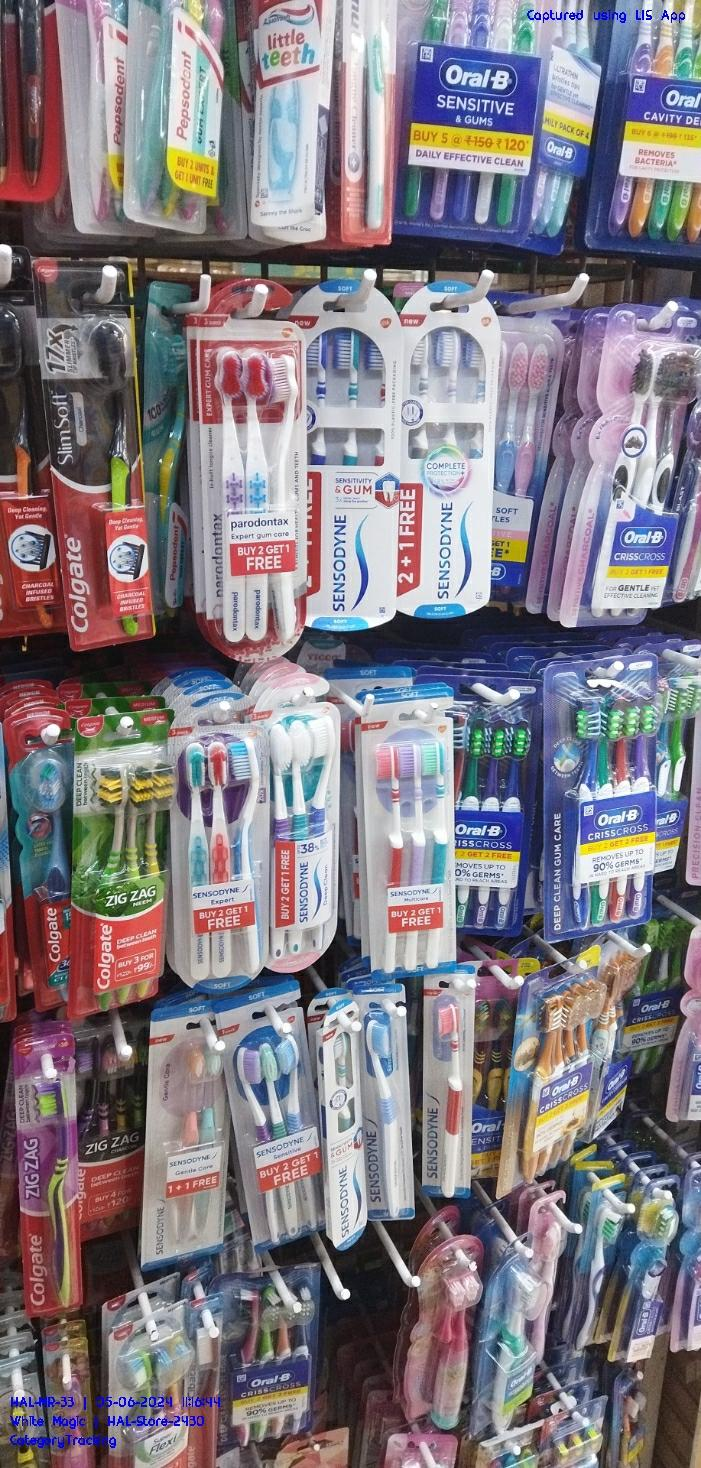15: (234, 990, 317, 1249)
16: (305, 282, 398, 627)
4: (397, 278, 496, 621)
5: (264, 678, 340, 970)
6: (171, 697, 252, 985)
7: (143, 1012, 222, 1260)
8: (360, 691, 455, 974)
soap: (56, 262, 149, 647)
